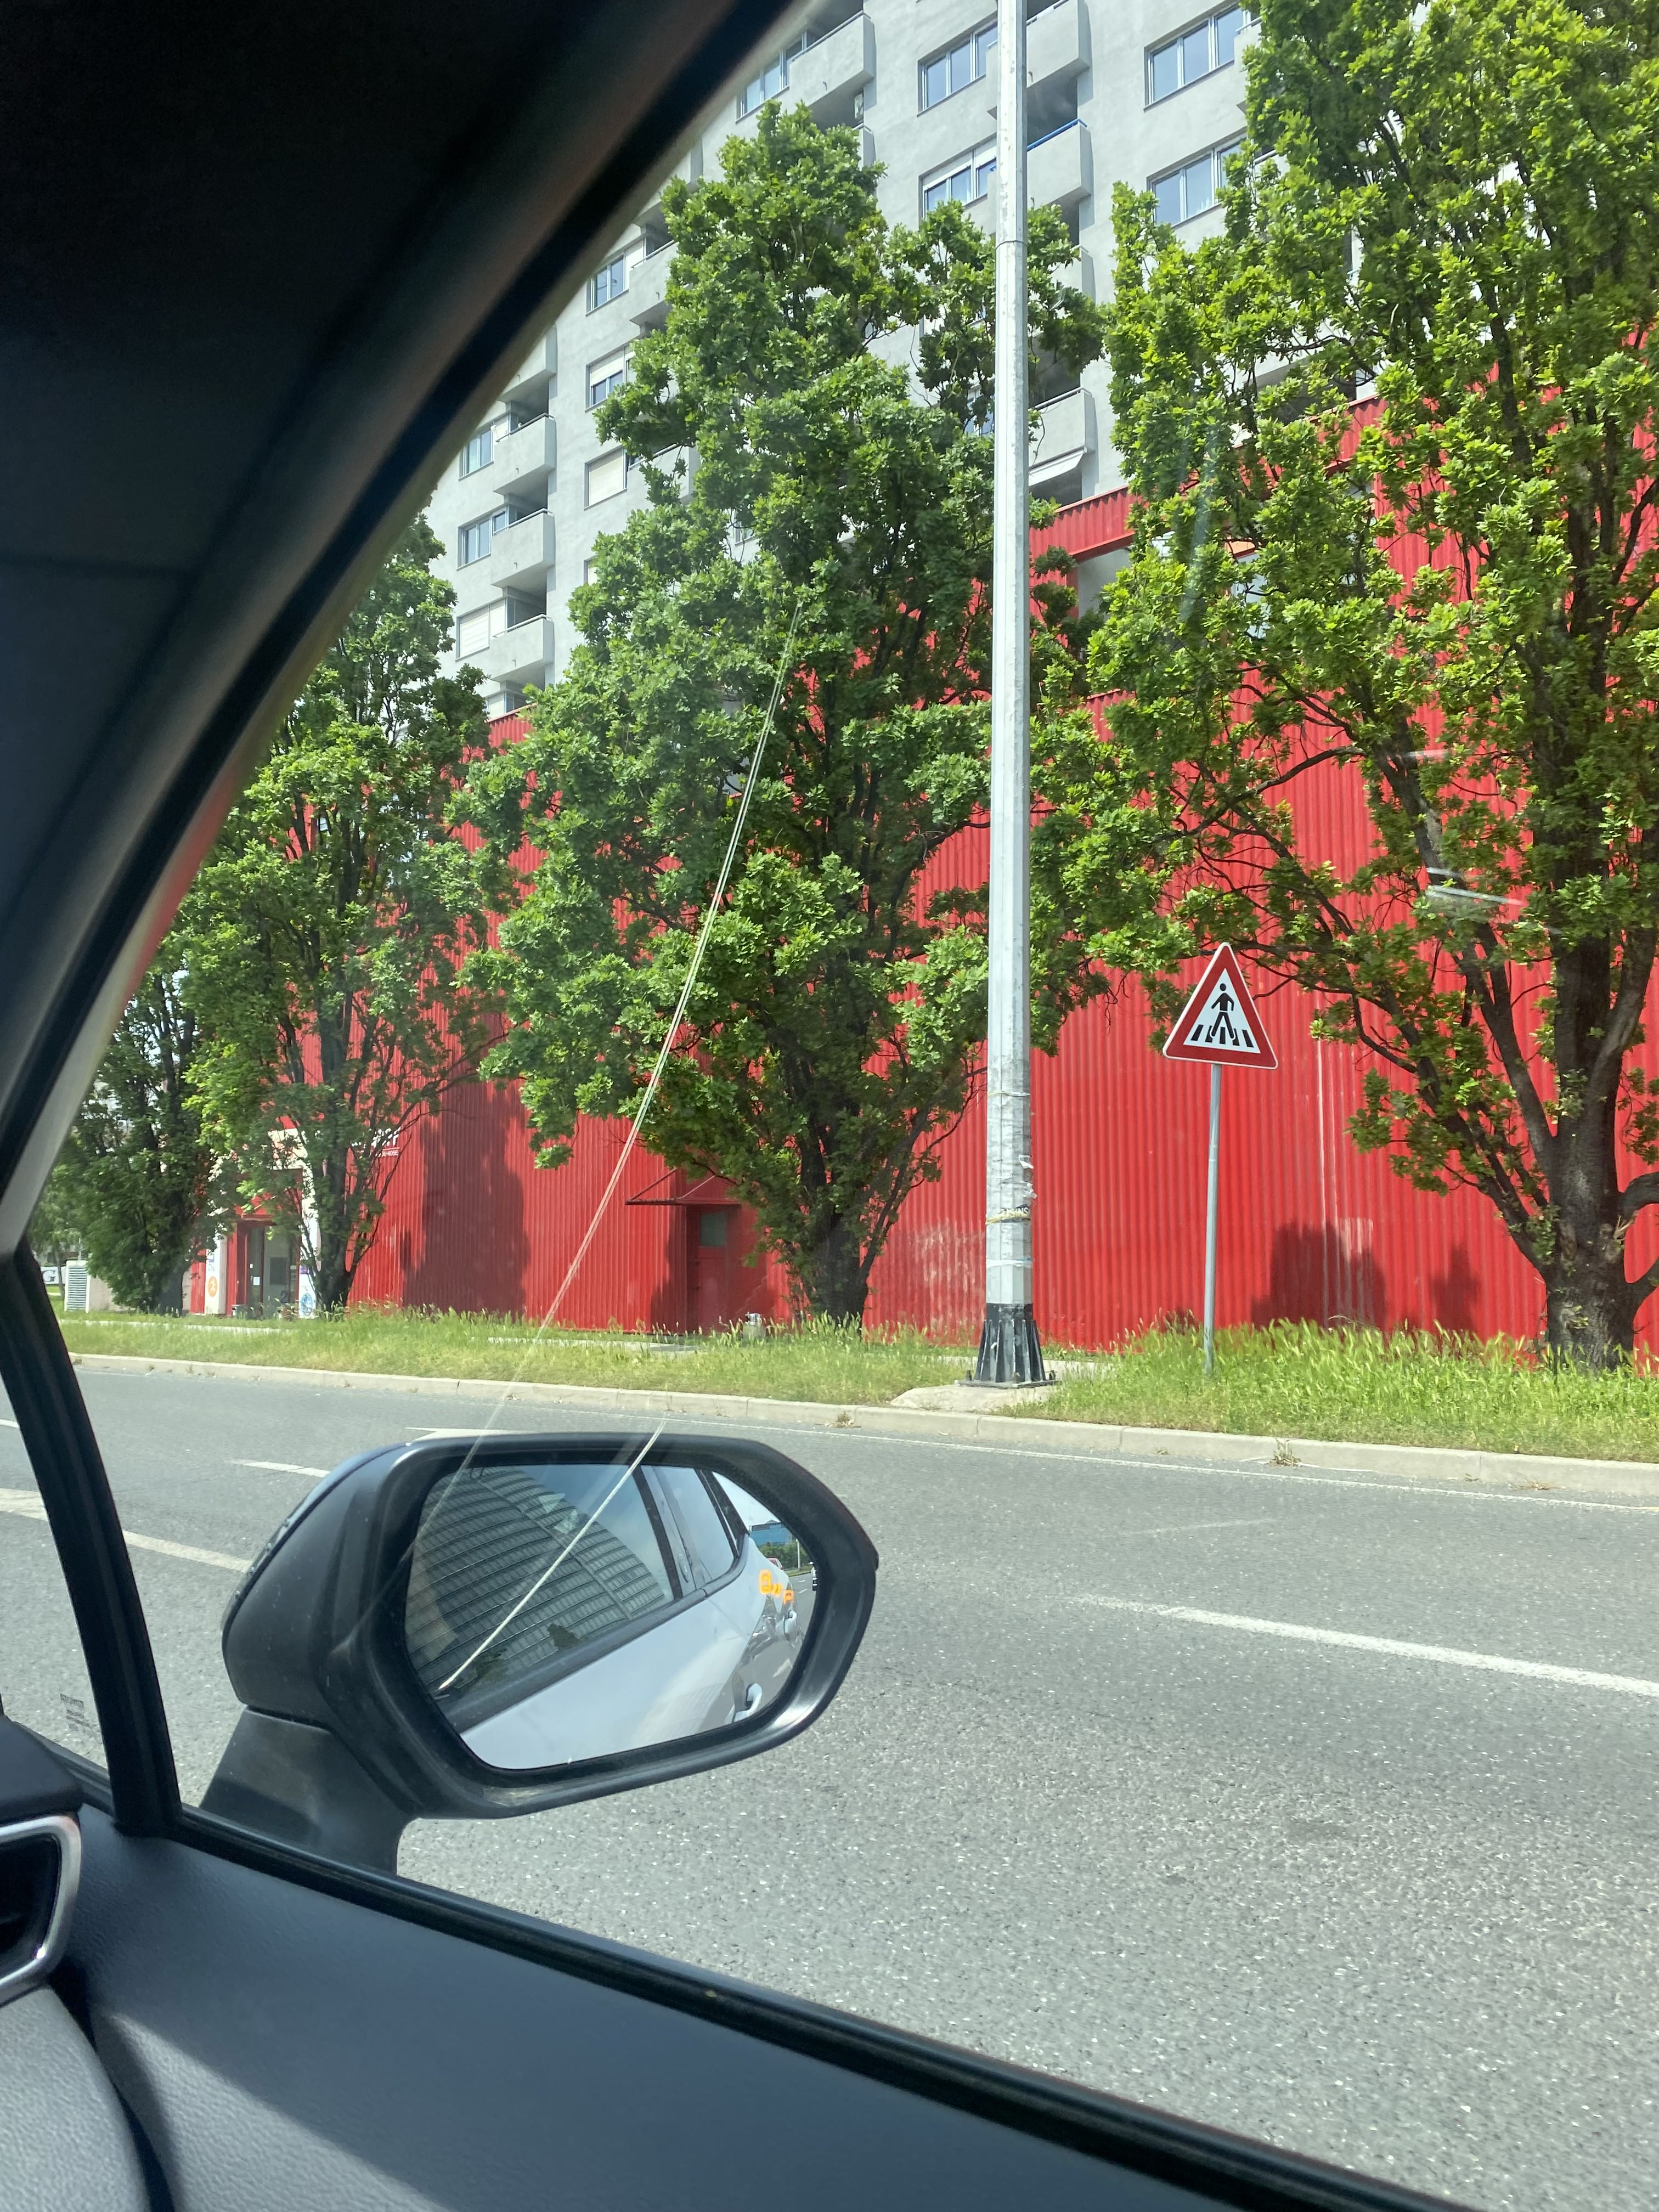Približavanje pješačkom prijelazu: (1162, 941, 1277, 1068)
